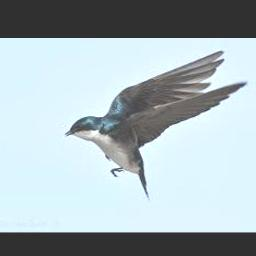Swallow: (66, 49, 247, 200)
